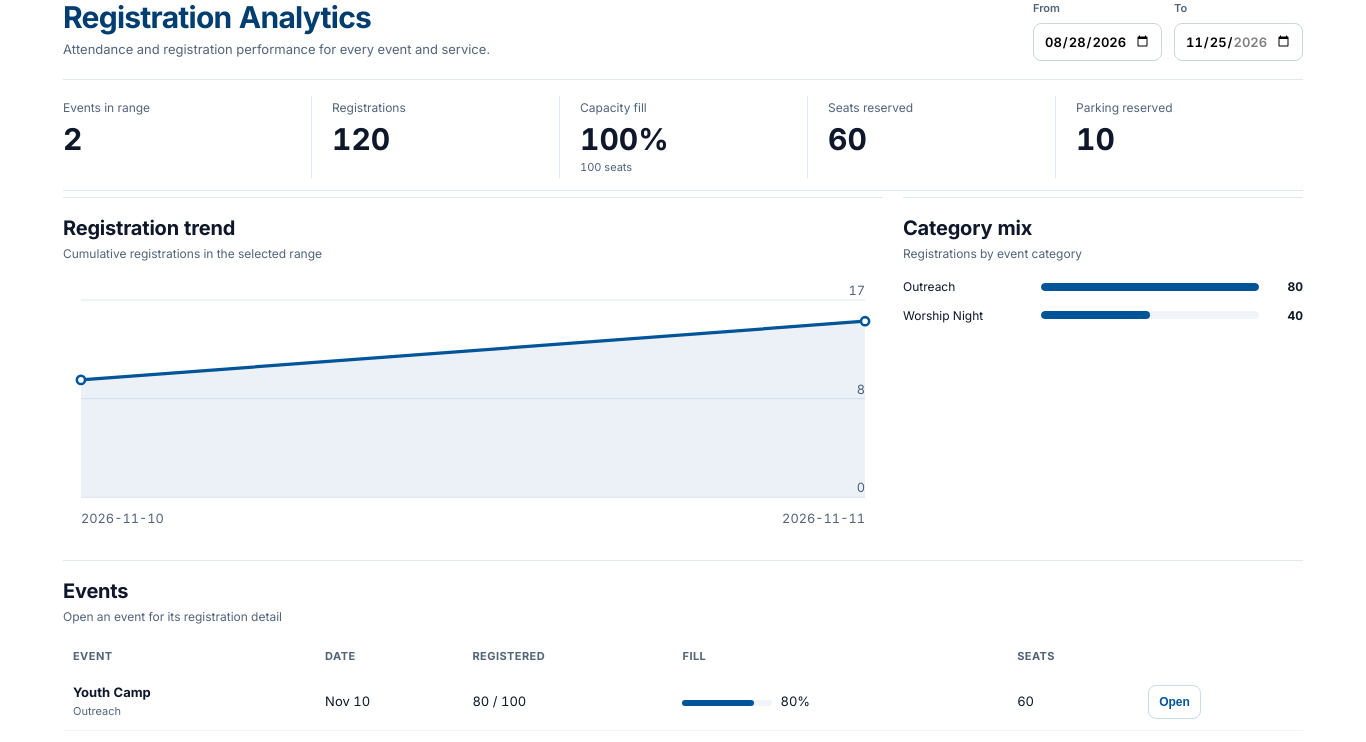
opens one event with its registrants in a centred dialog
The width and height of the screenshot is (1366, 742).
Click the button "Open" in the row of "Youth Camp": coordinates (1175, 702) [1148,685,1201,719]
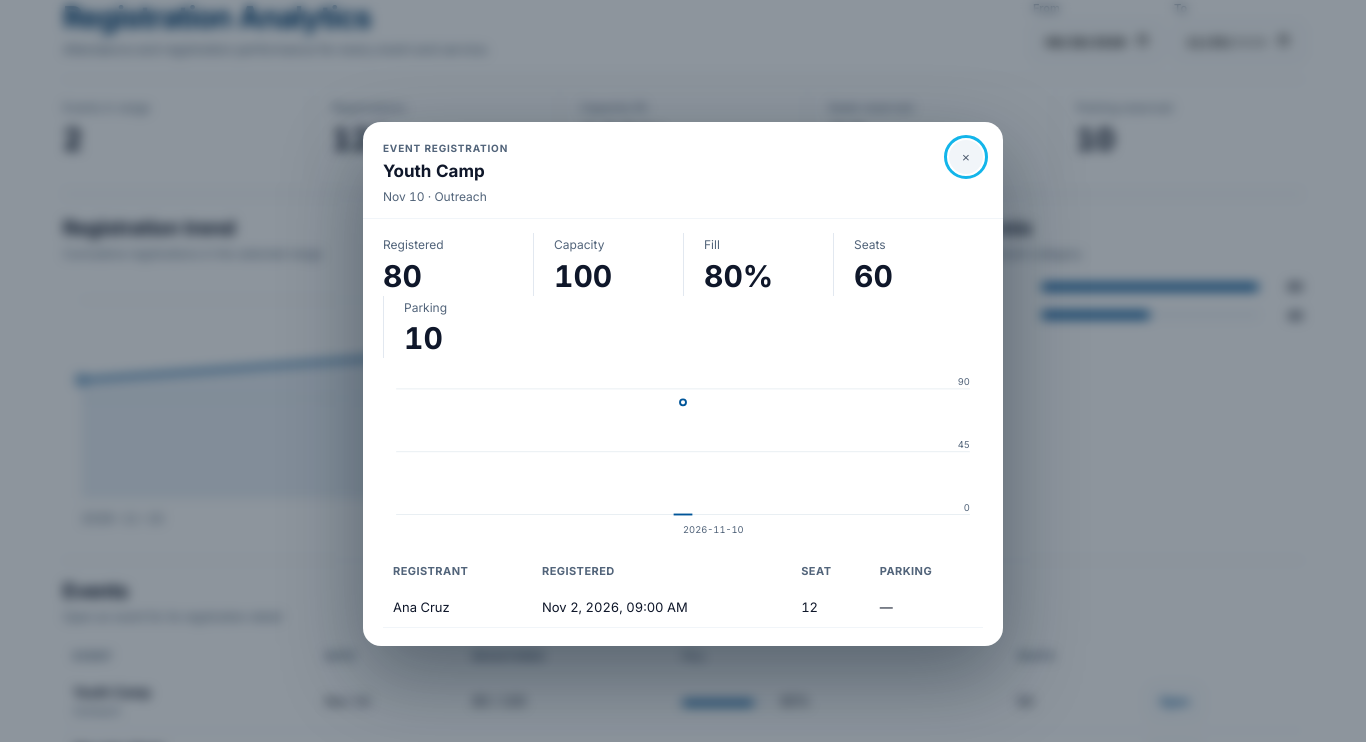
Expected: the dialog "Youth Camp" is shown, [363,122,1003,646]
Expected: the text "Ana Cruz" is shown, [383,588,532,627]
Expected: the text "12" is shown, [791,588,870,627]
Click the button named "Close event detail": coordinates (966, 157) [949,140,983,174]
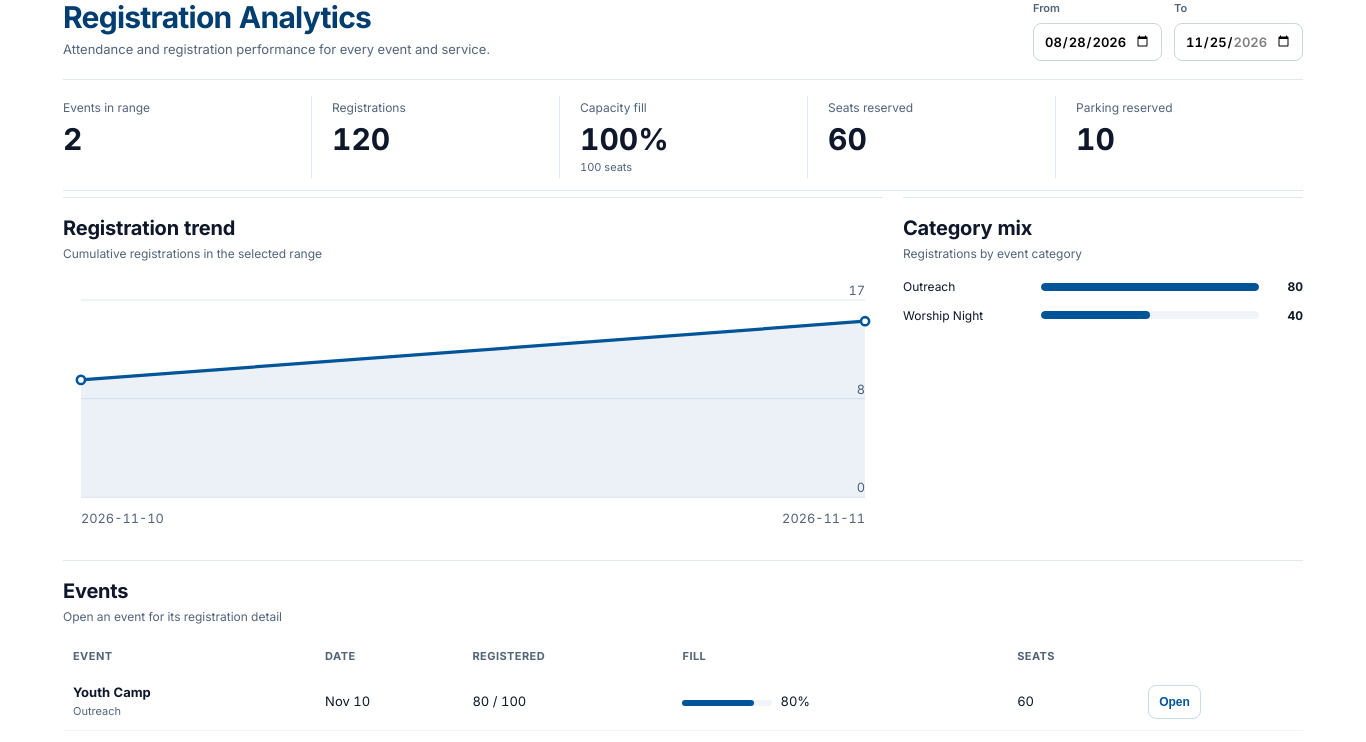
Expected: the dialog is gone
